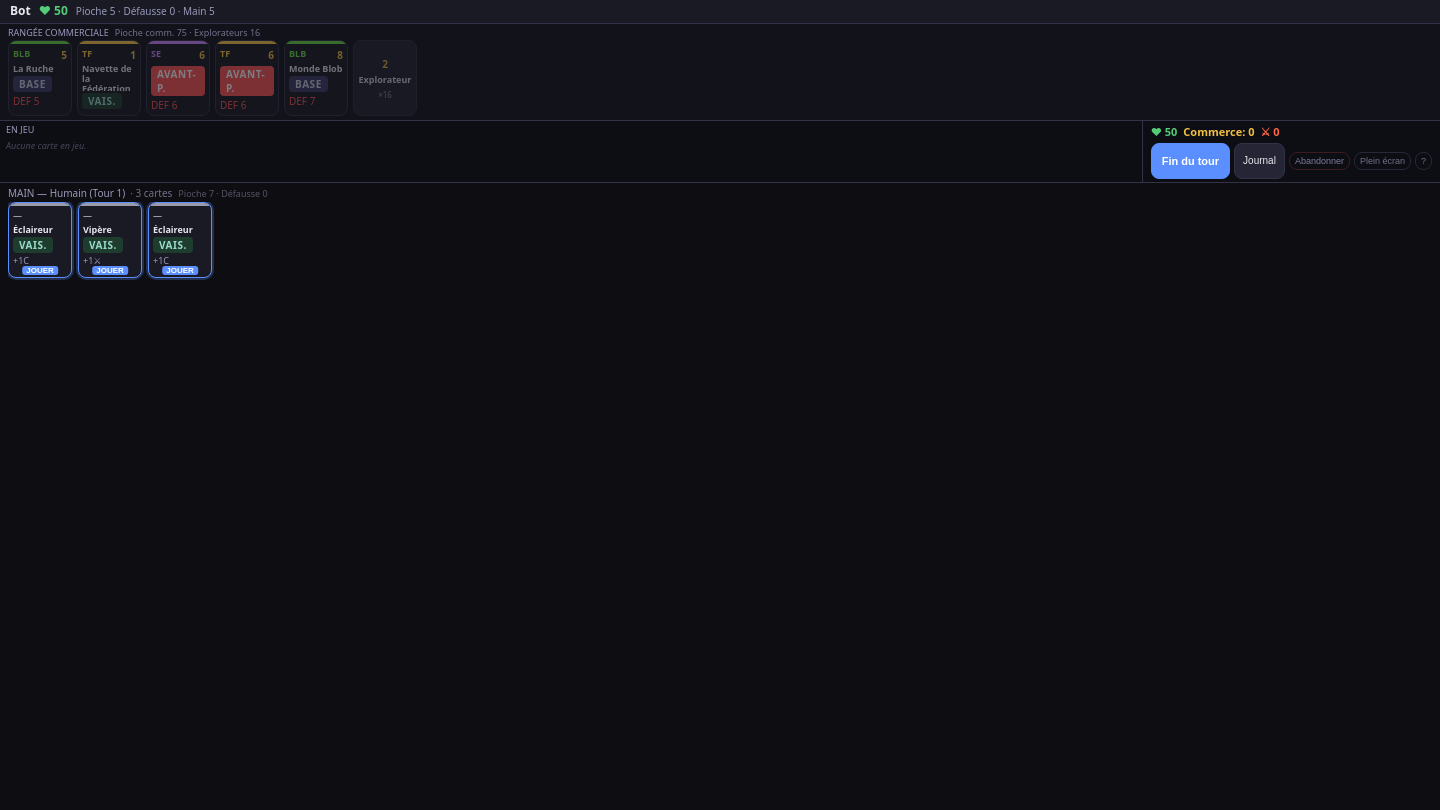
Test case: PATCH 0041 — D. Journal paysage — bouton fermer 44×44px › Landscape : bouton ✕ du journal a minWidth et minHeight >= 44px
Step 1. Click the button "Journal" → [1260, 161], box [1234,143,1285,179]
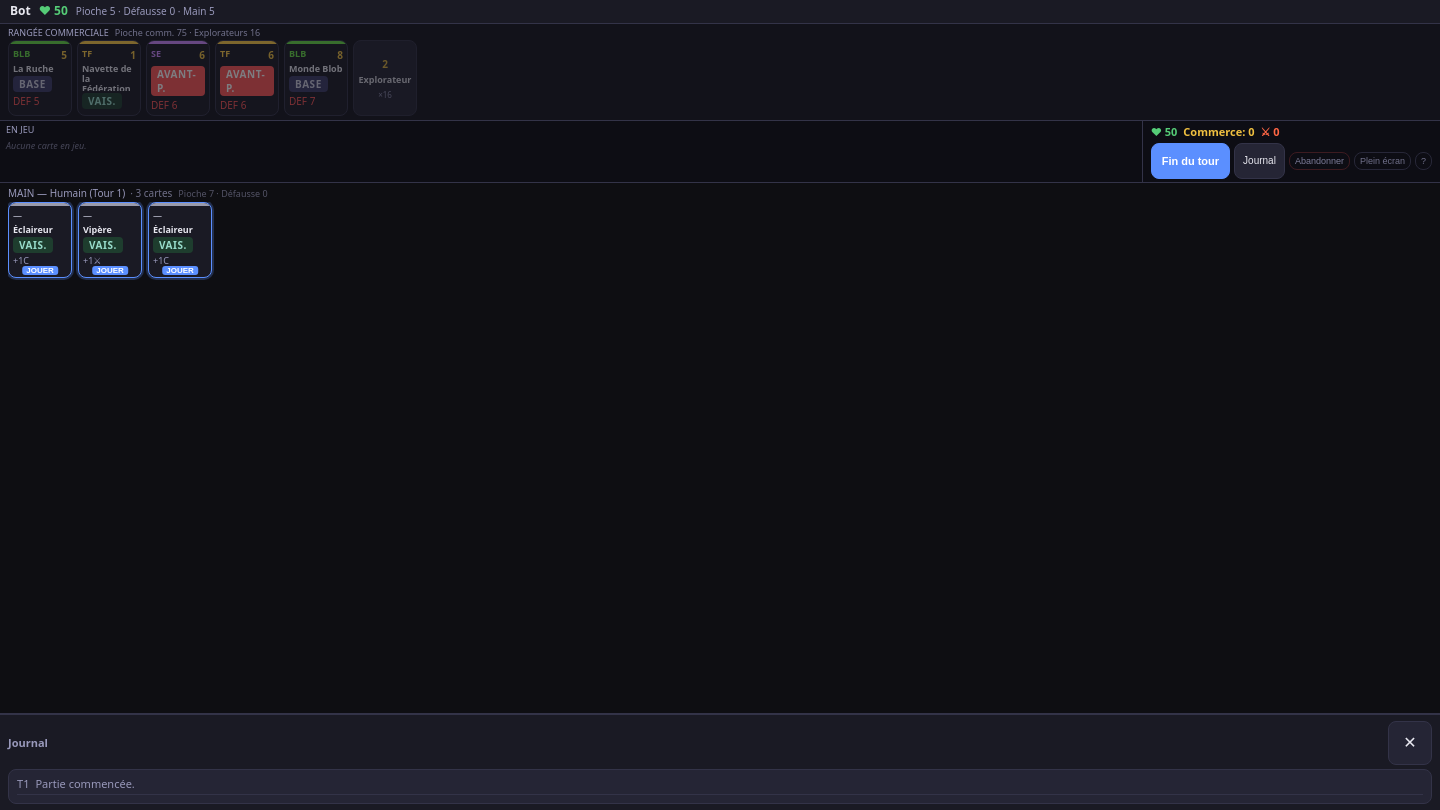
Result: the button "✕" is shown at [1388,720,1432,764]
